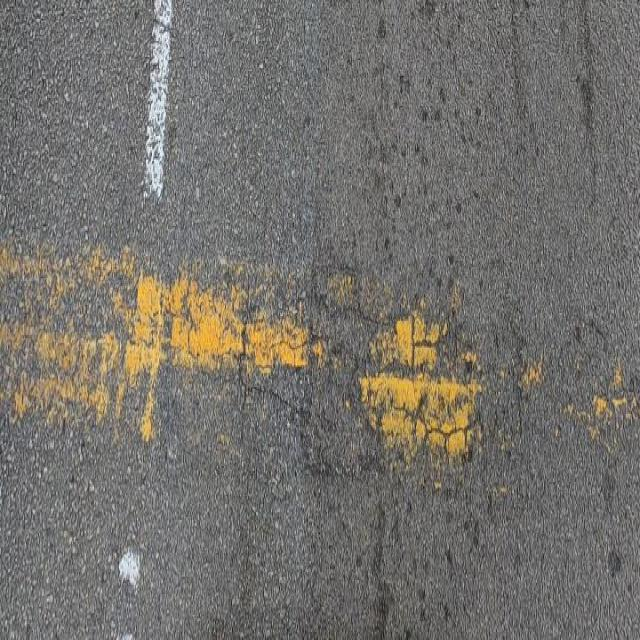cracks: (222, 299, 498, 470)
